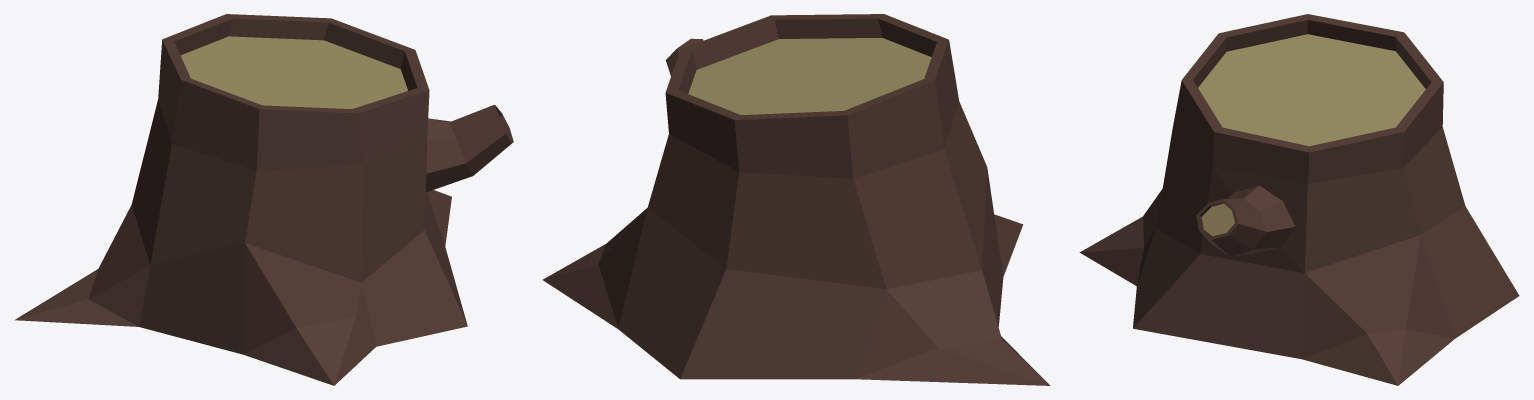
Rendered from tronco.fbx.
The picture shows the model from 3 angles, left to right: view 1: azimuth 30°, elevation 25°; view 2: azimuth 150°, elevation 25°; view 3: azimuth 270°, elevation 25°; orthographic projection. The views are drawn at different scales.
Visible parts, largest first — view 1: tronco_1:Mesh; view 2: tronco_1:Mesh; view 3: tronco_1:Mesh.
Boxes of the visible parts, x1,y1,x2,y2 form: tronco_1:Mesh: (14, 14, 513, 385); tronco_1:Mesh: (542, 14, 1050, 385); tronco_1:Mesh: (1079, 14, 1519, 385).
Size of the model in its own units: 5.32 by 2.55 by 4.59.
1 material, 1 textured.
